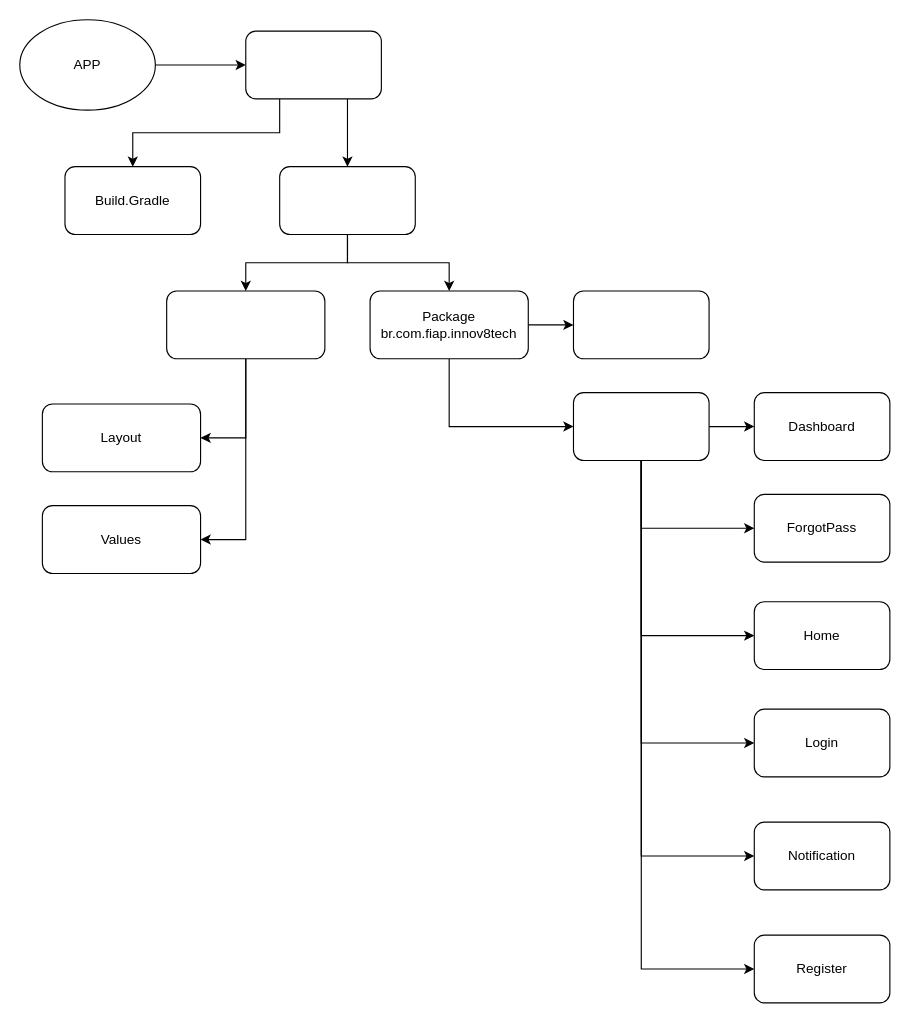
Image size: 910x1023. Some labels were removed from this diagram. The centre of each missing label's shape, as x and y in pixels:
Main: (x=347, y=200)
MainActivity: (x=640, y=324)
Res: (x=245, y=324)
SRC: (x=313, y=64)
UI: (x=640, y=426)
